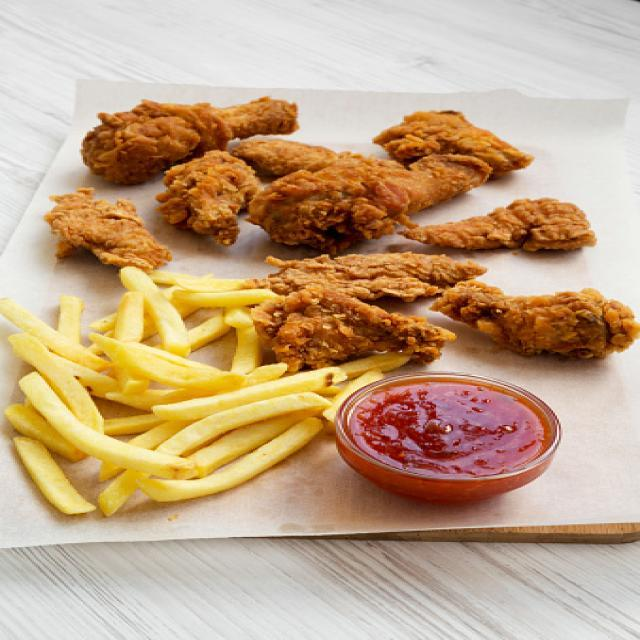khoai tay chien: (0, 268, 438, 519)
thit ga: (231, 249, 497, 370), (234, 166, 512, 254), (76, 92, 313, 183), (427, 279, 640, 368), (365, 102, 553, 183), (36, 189, 183, 274), (150, 152, 272, 241), (233, 129, 403, 184)
